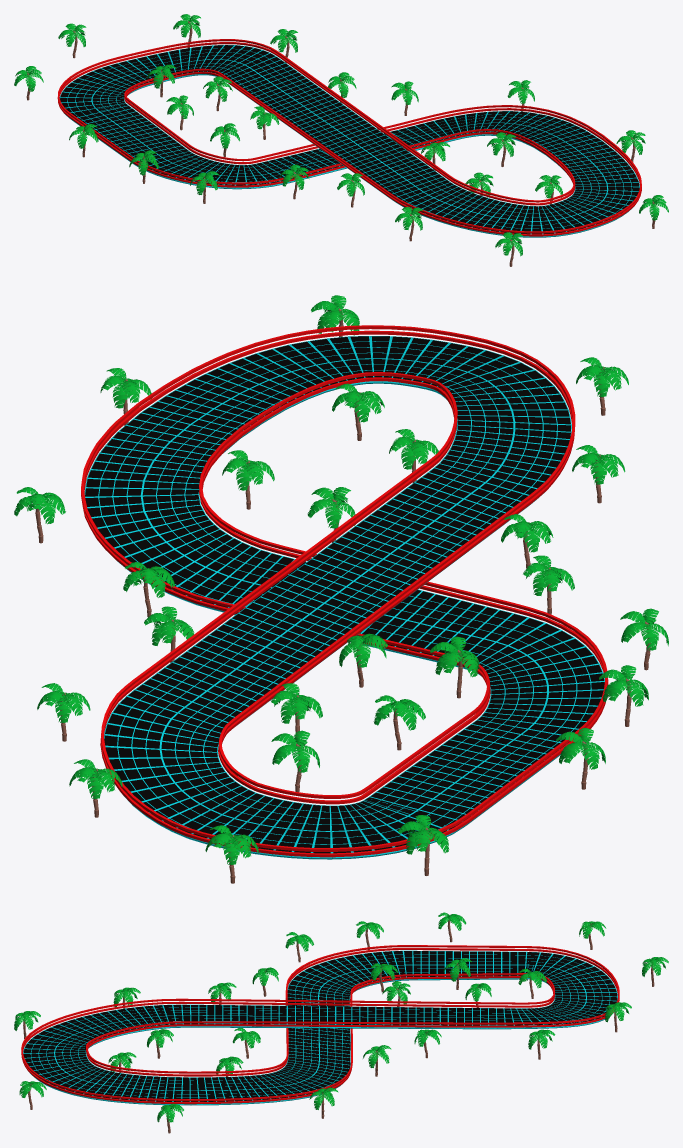
File: infinite_test_track_export2_seperate_walls.fbx
The picture shows the model from 3 angles, top to bottom: view 1: azimuth 30°, elevation 25°; view 2: azimuth 150°, elevation 25°; view 3: azimuth 270°, elevation 25°; orthographic projection. The views are drawn at different scales.
Parts seen in each view (by area): view 1: track, palmtree.016, palmtree.022, palmtree.009, palmtree.008, palmtree.021, palmtree.014, palmtree.024, palmtree.003, palmtree.007, palmtree.020, palmtree.010 (+12 smaller); view 2: track, palmtree, palmtree.012, palmtree.011, palmtree.010, palmtree.002, palmtree.013, palmtree.014, palmtree.003, palmtree.016, palmtree.019, palmtree.005 (+14 smaller); view 3: track, palmtree.019, palmtree.004, palmtree.007, palmtree.008, palmtree.005, palmtree.001, palmtree.009, palmtree.022, palmtree.013, palmtree.015, palmtree.002 (+5 smaller).
Part boxes in pixels (x1,y1,x2,y2): track: (57,39,641,237); palmtree.016: (487,132,515,166); palmtree.022: (495,232,522,266); palmtree.009: (58,23,86,58); palmtree.008: (173,14,200,48); palmtree.021: (395,207,422,241); palmtree.014: (279,164,309,199); palmtree.024: (616,130,645,162); palmtree.003: (203,76,232,111); palmtree.007: (270,29,297,63); palmtree.020: (337,173,364,207); palmtree.010: (14,66,43,100); track: (81,325,608,859); palmtree: (430,636,479,698); palmtree.012: (599,665,648,726); palmtree.011: (556,728,605,789); palmtree.010: (398,815,449,875); palmtree.002: (271,730,319,792); palmtree.013: (620,608,668,670); palmtree.014: (523,555,574,614); palmtree.003: (270,683,322,736); palmtree.016: (222,450,274,509); palmtree.019: (14,487,65,543); palmtree.005: (123,562,175,617); track: (21,945,619,1105); palmtree.019: (309,1087,338,1118); palmtree.004: (382,981,410,1006); palmtree.007: (528,1029,555,1059); palmtree.008: (605,1002,631,1032); palmtree.005: (363,1045,391,1076); palmtree.001: (443,958,471,989); palmtree.009: (642,957,668,986); palmtree.022: (14,1011,40,1038); palmtree.013: (285,932,313,962); palmtree.015: (232,1027,260,1058); palmtree.002: (518,968,546,998).
Size of what is drawn, in the model's own units: 23855 by 1660 by 32542.
